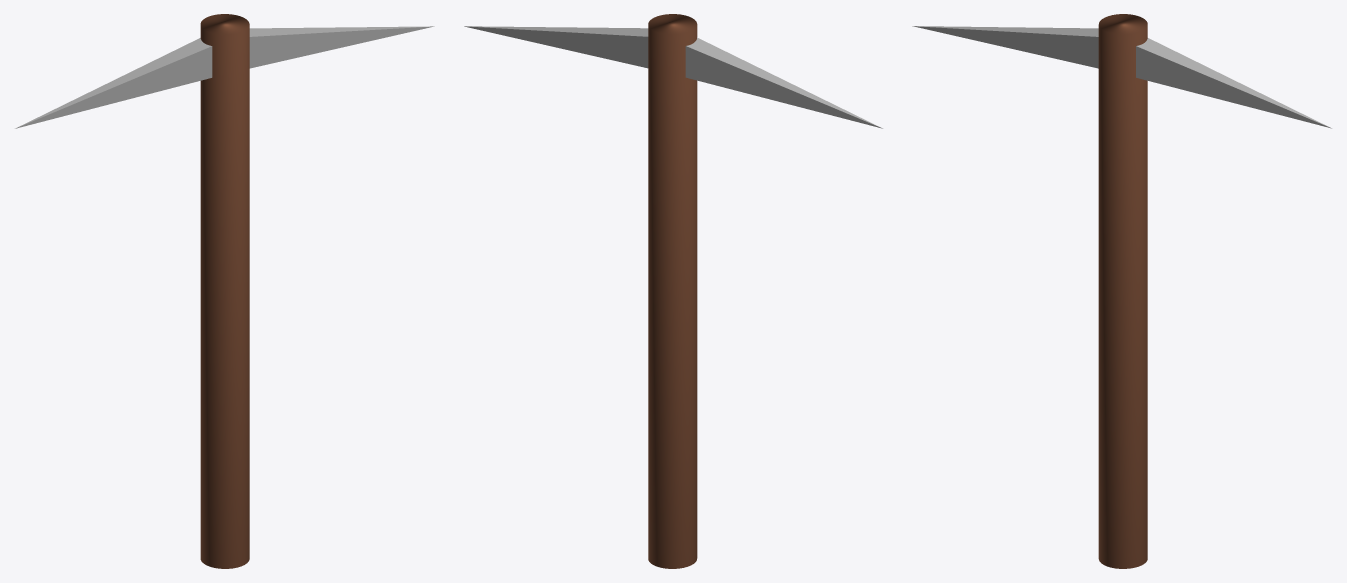
Rendered from AXE.fbx.
3 renders of one model, left to right at view 1: azimuth 30°, elevation 25°; view 2: azimuth 150°, elevation 25°; view 3: azimuth 330°, elevation 25°, orthographic.
Parts seen in each view (by area): view 1: Cylinder; view 2: Cylinder; view 3: Cylinder.
Part boxes in pixels (<box>): Cylinder: <box>15,14,434,568</box>; Cylinder: <box>464,14,882,568</box>; Cylinder: <box>912,14,1331,568</box>.
Size of the model in its own units: 81.49 by 98.81 by 8.3.
